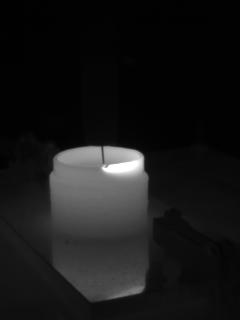tip_wire_left: (85, 142, 105, 168)
tip_wire_right: (103, 140, 118, 168)
